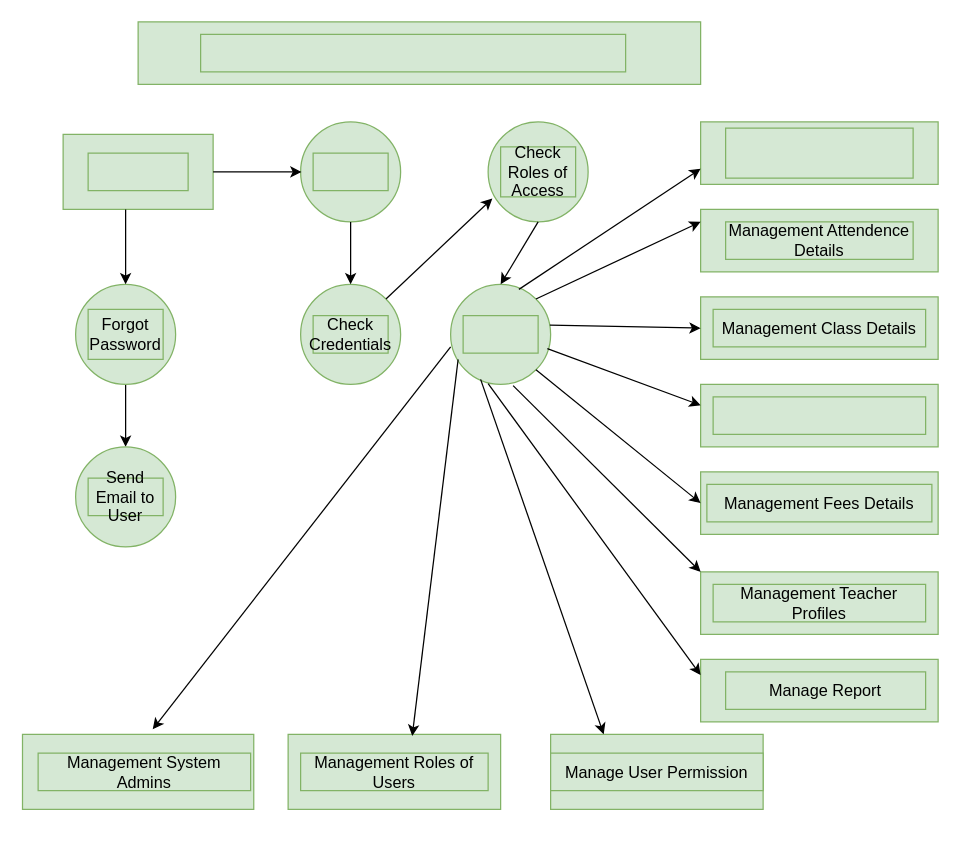
This 960x841 diagram has some shape labels left out. Each missing label, with the box of its shape:
Admin: (87, 152, 188, 191)
Login to System: (312, 152, 388, 191)
Manage Modules: (462, 314, 538, 353)
Management Student Details: (712, 396, 926, 434)
Management Timetable Details: (724, 127, 913, 178)
student Information system: (199, 33, 626, 72)
